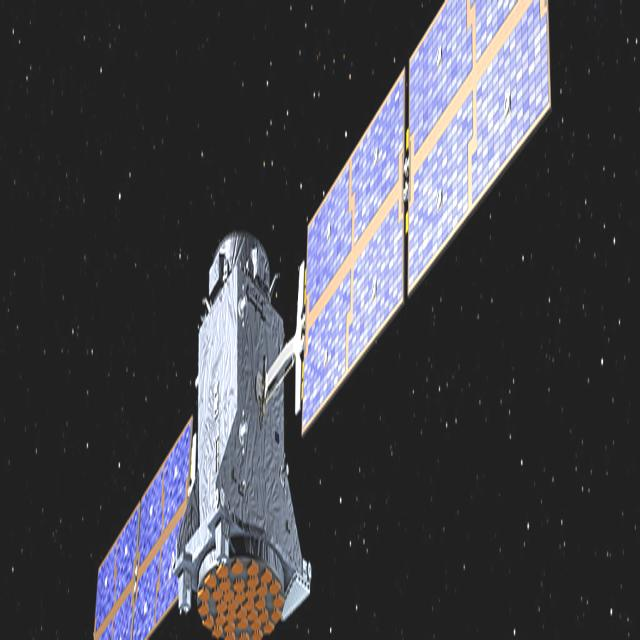satellite: (85, 0, 558, 640)
